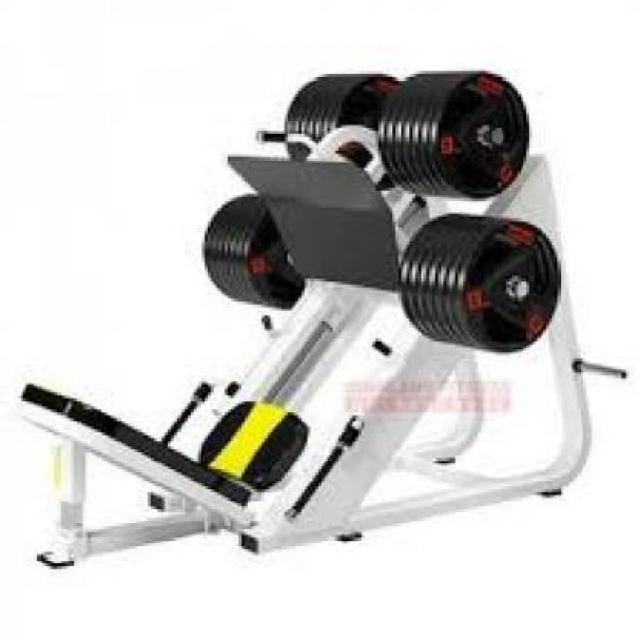leg press: (17, 57, 635, 592)
